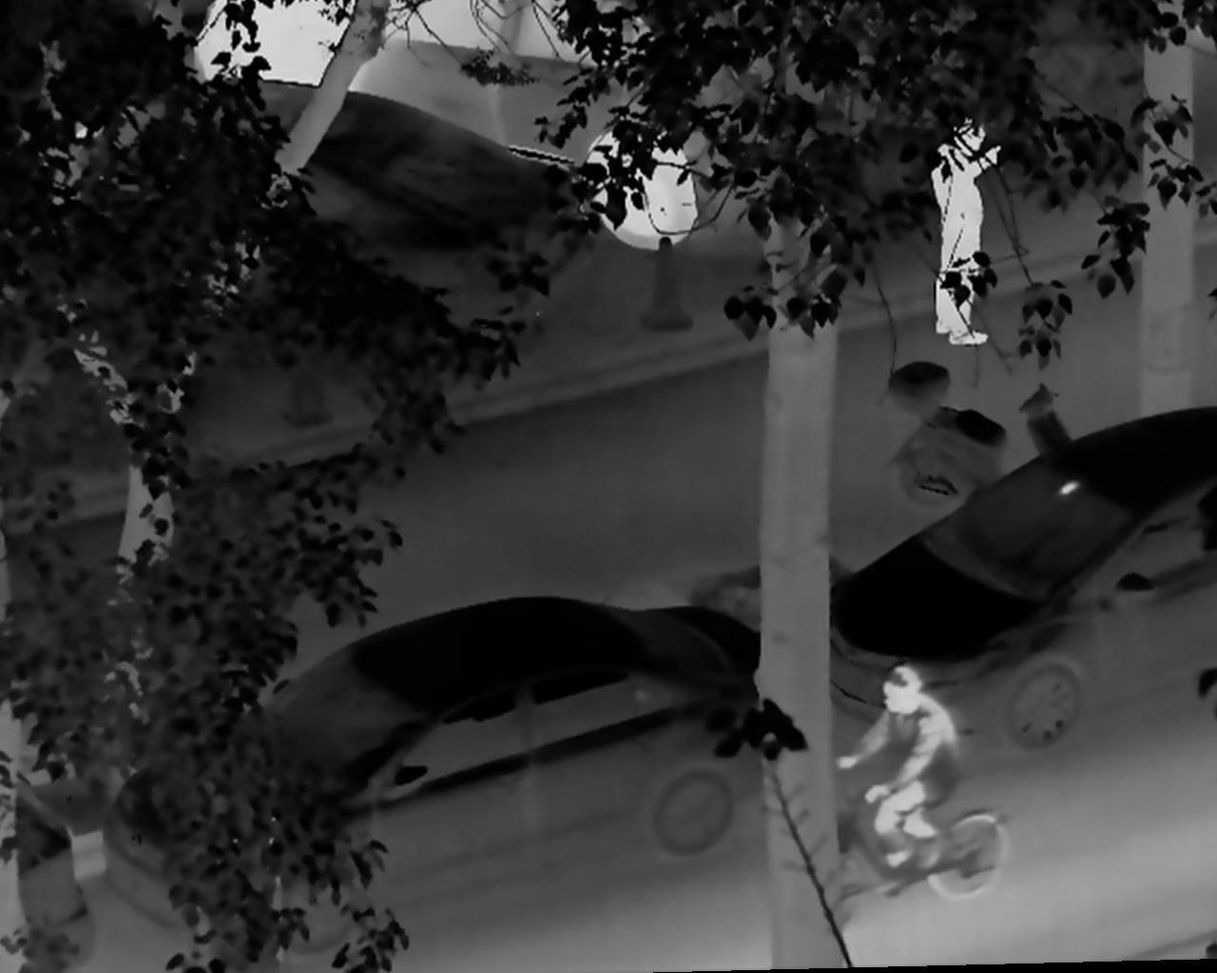person: (834, 656, 964, 875), (926, 115, 1006, 349)
